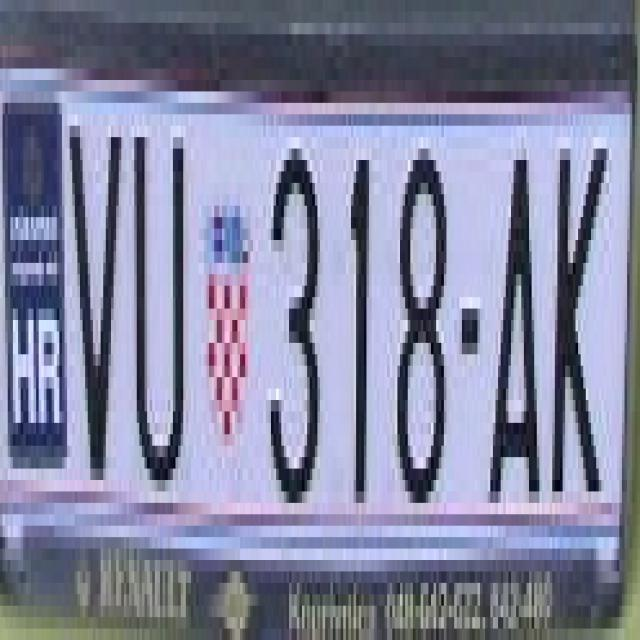1: (341, 171, 379, 503)
3: (261, 103, 320, 480)
8: (395, 160, 444, 514)
A: (496, 114, 540, 469)
K: (550, 137, 606, 480)
U: (132, 103, 188, 480)
V: (72, 114, 121, 480)
